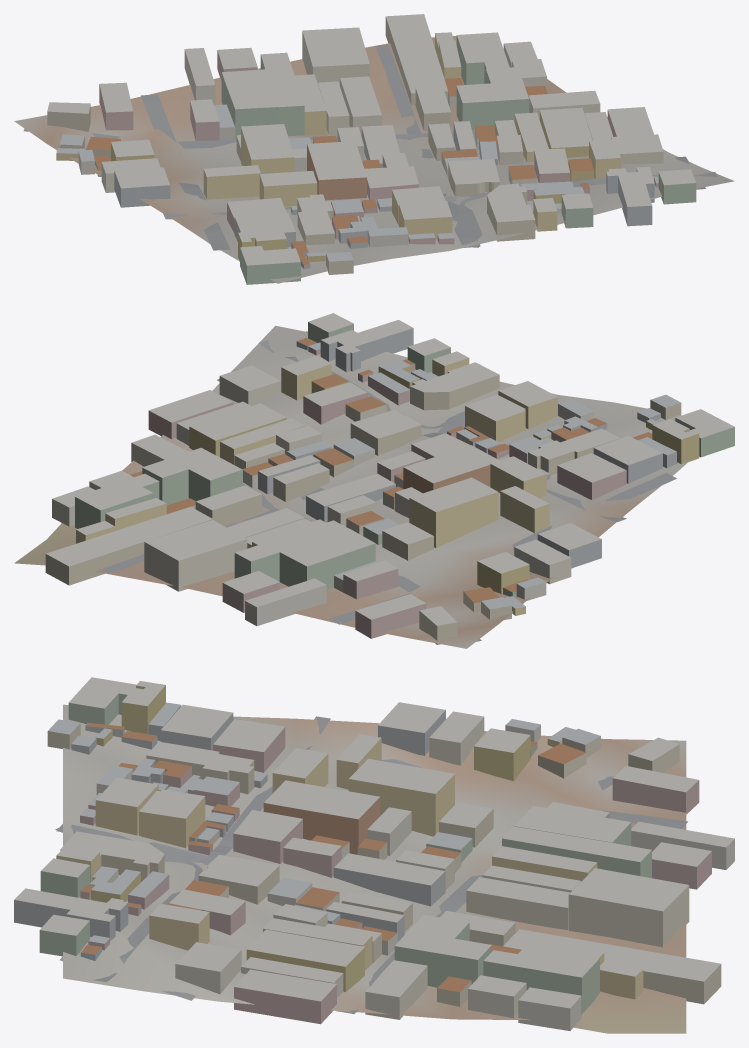
3 renders of one model, top to bottom at view 1: azimuth 30°, elevation 25°; view 2: azimuth 150°, elevation 25°; view 3: azimuth 270°, elevation 25°, orthographic. The views are drawn at different scales.
Parts seen in each view (by area): view 1: Lo; view 2: Lo; view 3: Lo.
Part boxes in pixels (x1,y1,x2,y2): Lo: [14, 14, 734, 284]; Lo: [14, 313, 734, 648]; Lo: [14, 677, 734, 1033].
Size of the model in its own units: 277 by 39.7 by 296.
